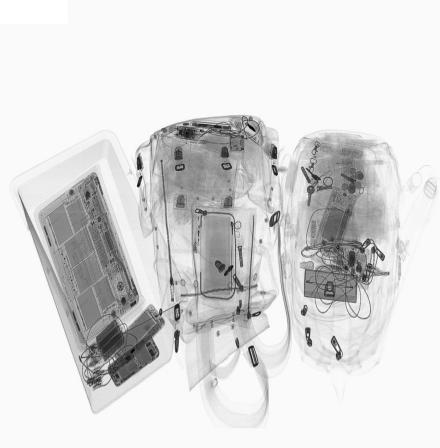Lighter: (229, 116, 264, 148)
